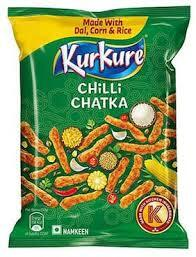VEG: (51, 224, 63, 236)
